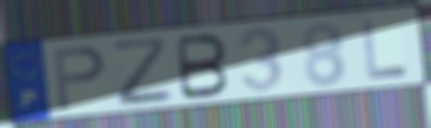3: (236, 24, 288, 96)
8: (301, 19, 349, 90)
B: (174, 32, 231, 103)
L: (359, 17, 411, 83)
P: (50, 44, 108, 113)
Z: (107, 34, 177, 110)
